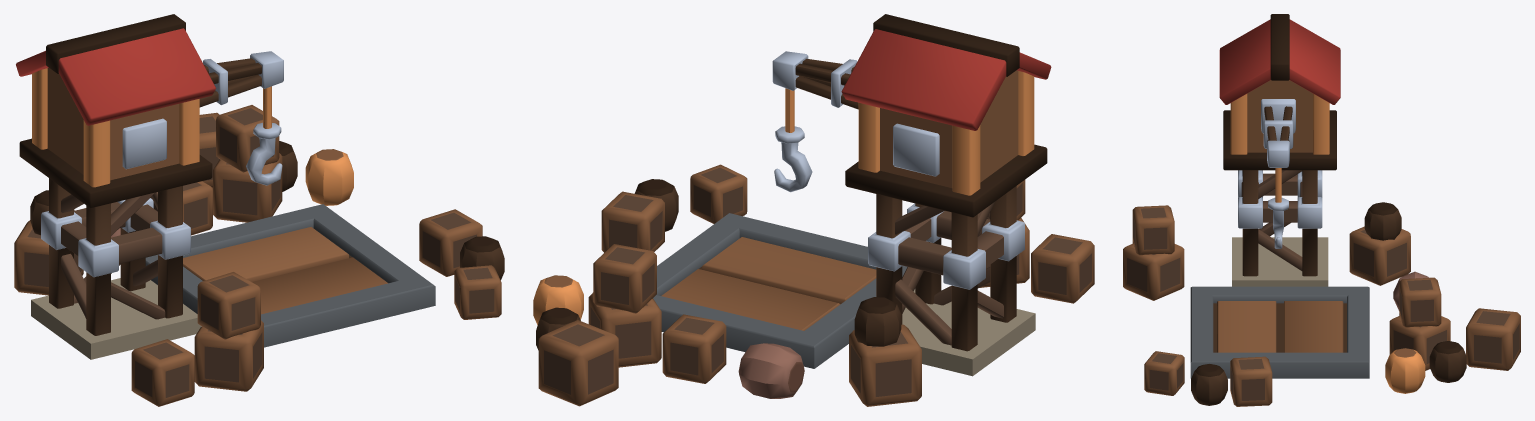
File: Crane.fbx
3 renders of one model, left to right at view 1: azimuth 30°, elevation 25°; view 2: azimuth 150°, elevation 25°; view 3: azimuth 270°, elevation 25°, orthographic. The views are drawn at different scales.
Visible parts, largest first — view 1: Cube.1343, Cube.1320, Cube.1329, Cube.1341, Cube.1319, Cube.1327, Cube.1328, Cube.1533, Cube.1534, Cube.1535, Cube.1536, Cube.1540 (+21 smaller); view 2: Cube.1343, Cube.1320, Cube.1329, Cube.1319, Cube.1542, Cube.1327, Cube.1328, Cube.1341, Cube.1539, Cube.1537, Cube.1534, Cube.1538 (+19 smaller); view 3: Cube.1343, Cube.1320, Cube.1329, Cube.1341, Cube.1542, Cube.1539, Cube.1319, Cube.1533, Cube.1327, Cube.1540, Cube.1535, Cube.1538 (+17 smaller).
Boxes of the visible parts, x1,y1,x2,y2 form: Cube.1343: (145, 204, 435, 347); Cube.1320: (16, 28, 215, 125); Cube.1329: (41, 178, 190, 335); Cube.1341: (31, 278, 200, 359); Cube.1319: (47, 67, 179, 180); Cube.1327: (19, 138, 212, 208); Cube.1328: (32, 68, 199, 187); Cube.1533: (194, 320, 263, 391); Cube.1534: (131, 339, 194, 406); Cube.1535: (197, 272, 260, 339); Cube.1536: (213, 153, 282, 222); Cube.1540: (419, 209, 482, 276); Cube.1343: (653, 213, 915, 368); Cube.1320: (841, 29, 1051, 130); Cube.1329: (868, 186, 1024, 351); Cube.1319: (880, 70, 1018, 188); Cube.1542: (538, 320, 618, 406); Cube.1327: (845, 144, 1047, 217); Cube.1328: (858, 71, 1034, 195); Cube.1341: (902, 289, 1035, 376); Cube.1539: (849, 324, 921, 406); Cube.1537: (662, 314, 726, 383); Cube.1534: (1031, 234, 1094, 303); Cube.1538: (593, 244, 656, 313); Cube.1343: (1190, 286, 1369, 378); Cube.1320: (1219, 19, 1340, 104); Cube.1329: (1238, 170, 1322, 276); Cube.1341: (1232, 237, 1328, 286); Cube.1542: (1466, 308, 1520, 370); Cube.1539: (1349, 226, 1410, 285); Cube.1319: (1247, 80, 1312, 152); Cube.1533: (1123, 243, 1184, 300); Cube.1327: (1223, 110, 1336, 170); Cube.1540: (1230, 356, 1272, 406); Cube.1535: (1132, 205, 1174, 255); Cube.1538: (1399, 277, 1441, 327).
Bounding box in the file's own units: 205 × 147 × 217.
